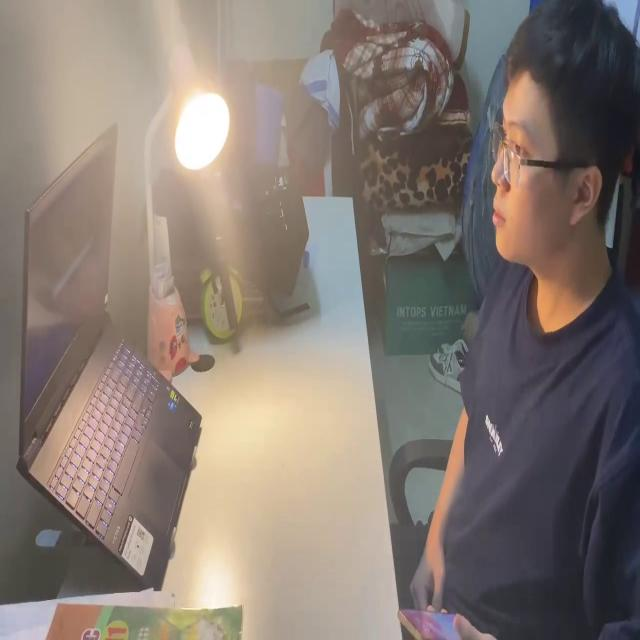book: (0, 584, 242, 640)
laptop: (15, 122, 202, 580)
phone: (398, 595, 462, 640)
student: (392, 0, 640, 640)
